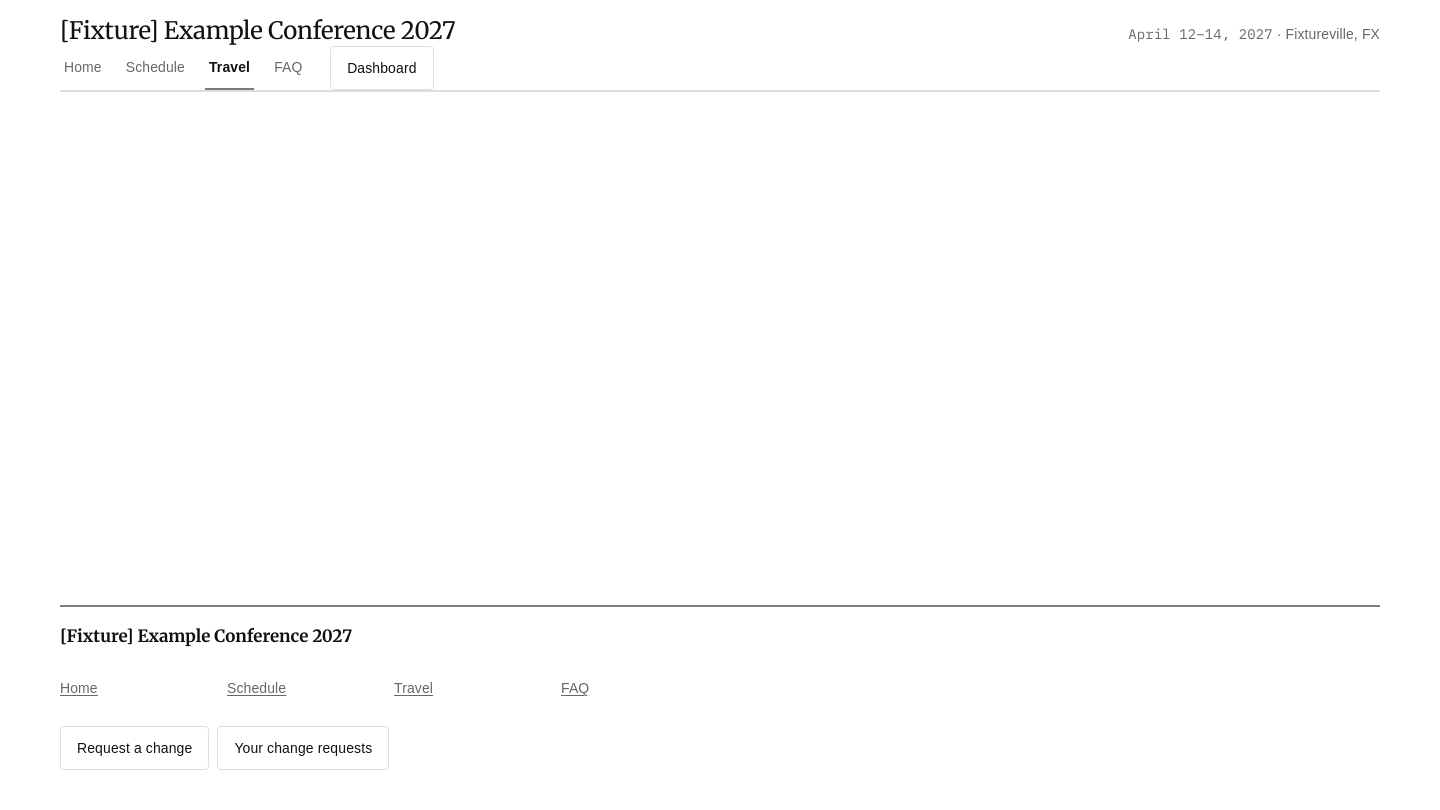
Test: the footer change request control › opens the dialog on the page the reader is on, and closes it again
The width and height of the screenshot is (1440, 810).
Click the button "Request a change": (135, 748) [60, 726, 209, 770]
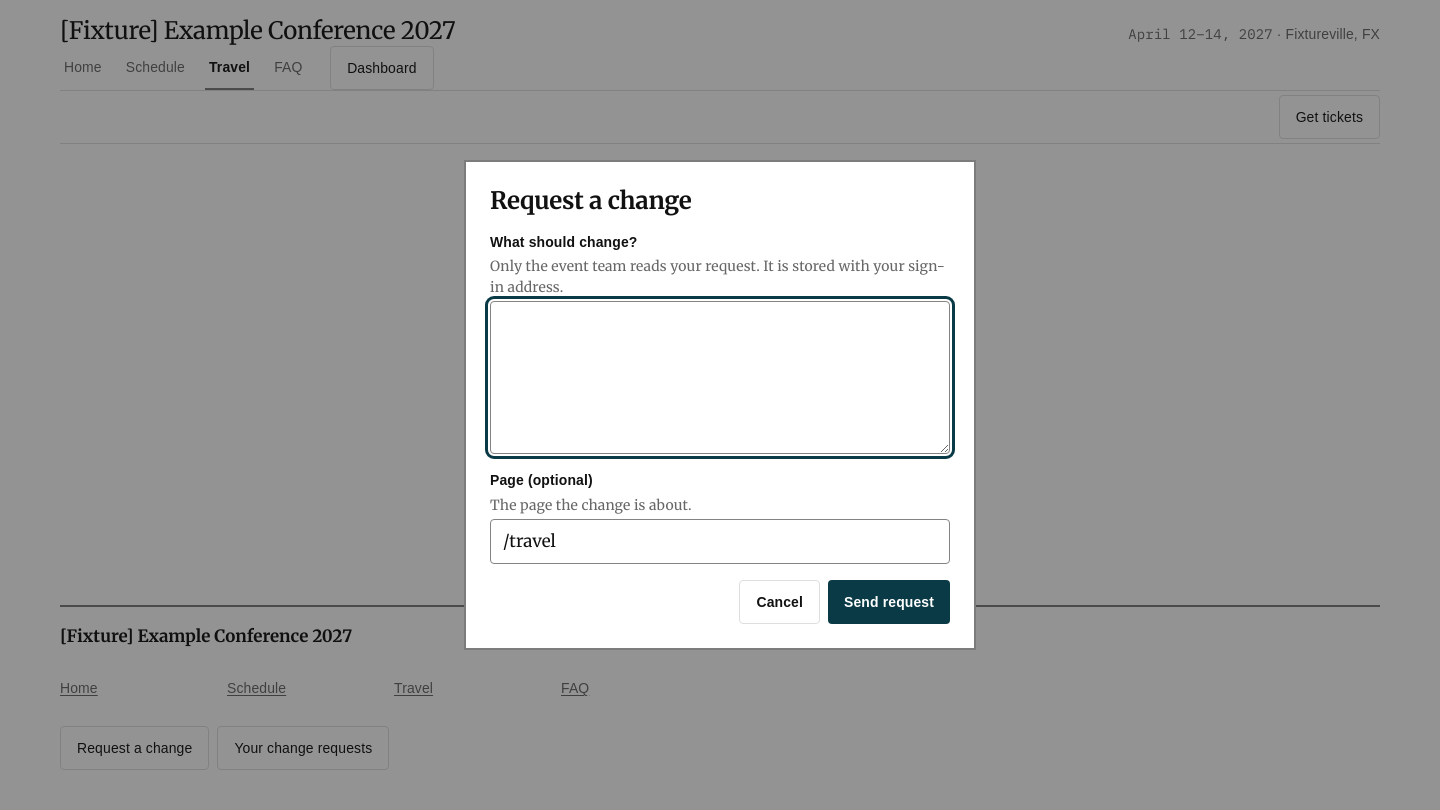
Expected: the dialog "Request a change" is shown, [464, 160, 976, 650]
Expected: the field labelled "Page (optional)" holds "/travel", [490, 519, 950, 564]
Click the button "Cancel": (780, 602) [740, 580, 820, 624]
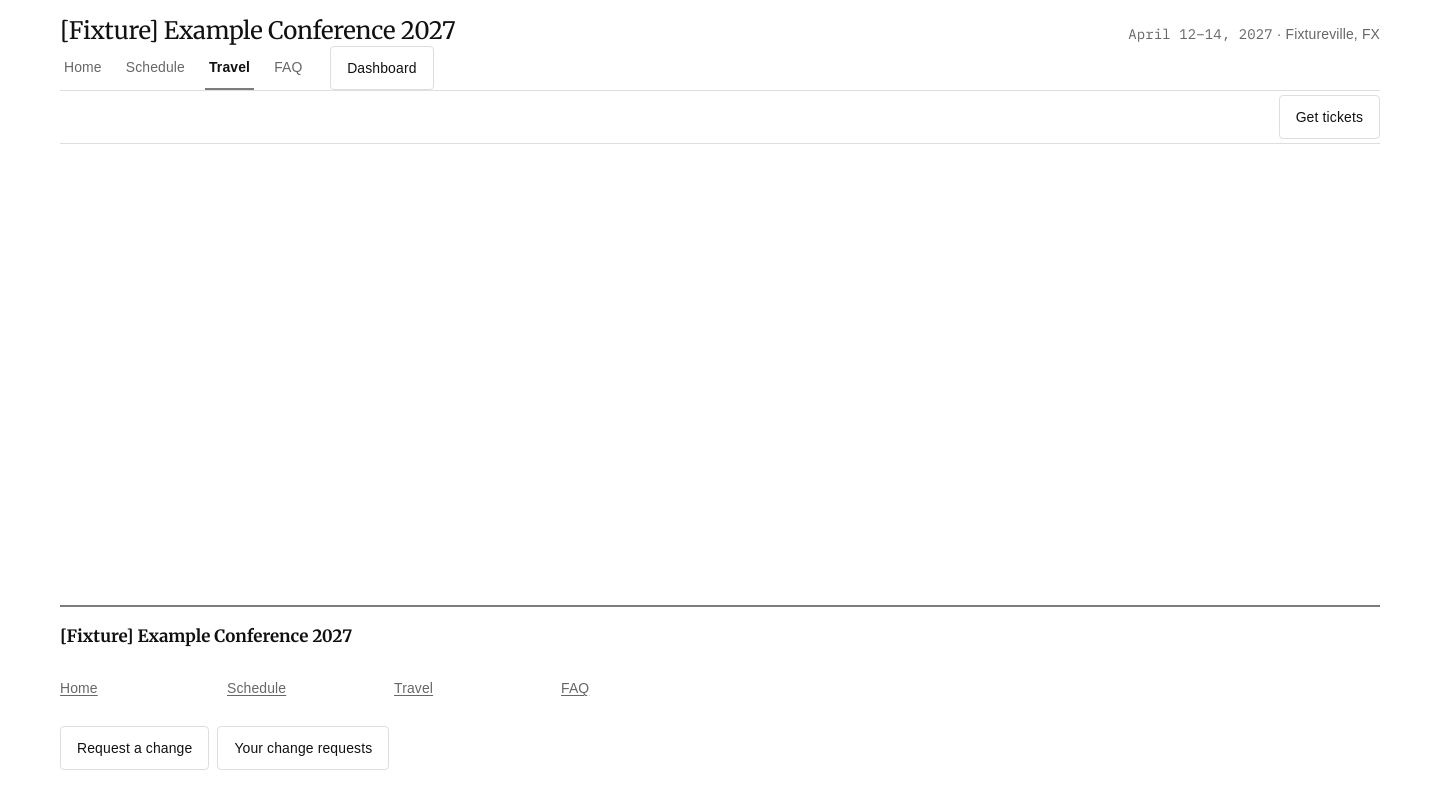
Expected: the dialog is gone
